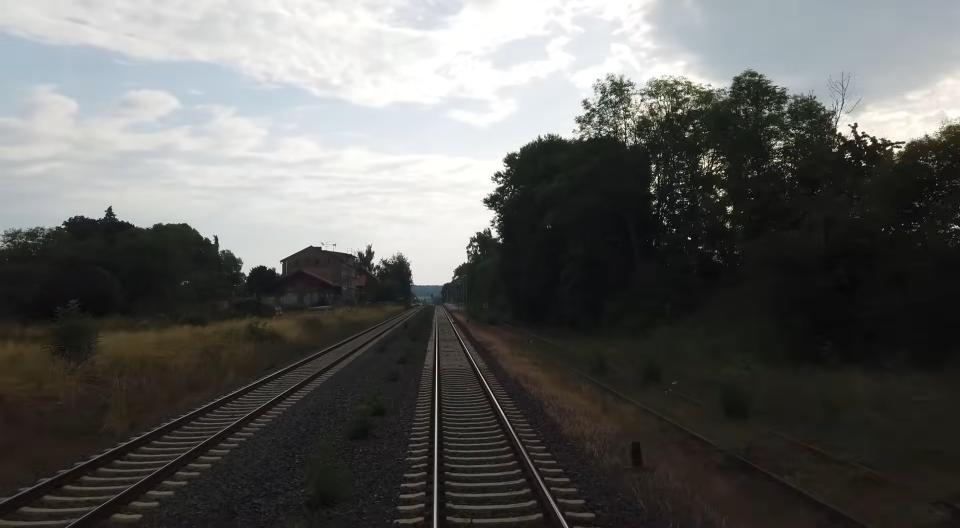Plant: (454, 314, 844, 528), (346, 419, 374, 440), (364, 395, 387, 417), (387, 369, 402, 383), (397, 355, 406, 365)
